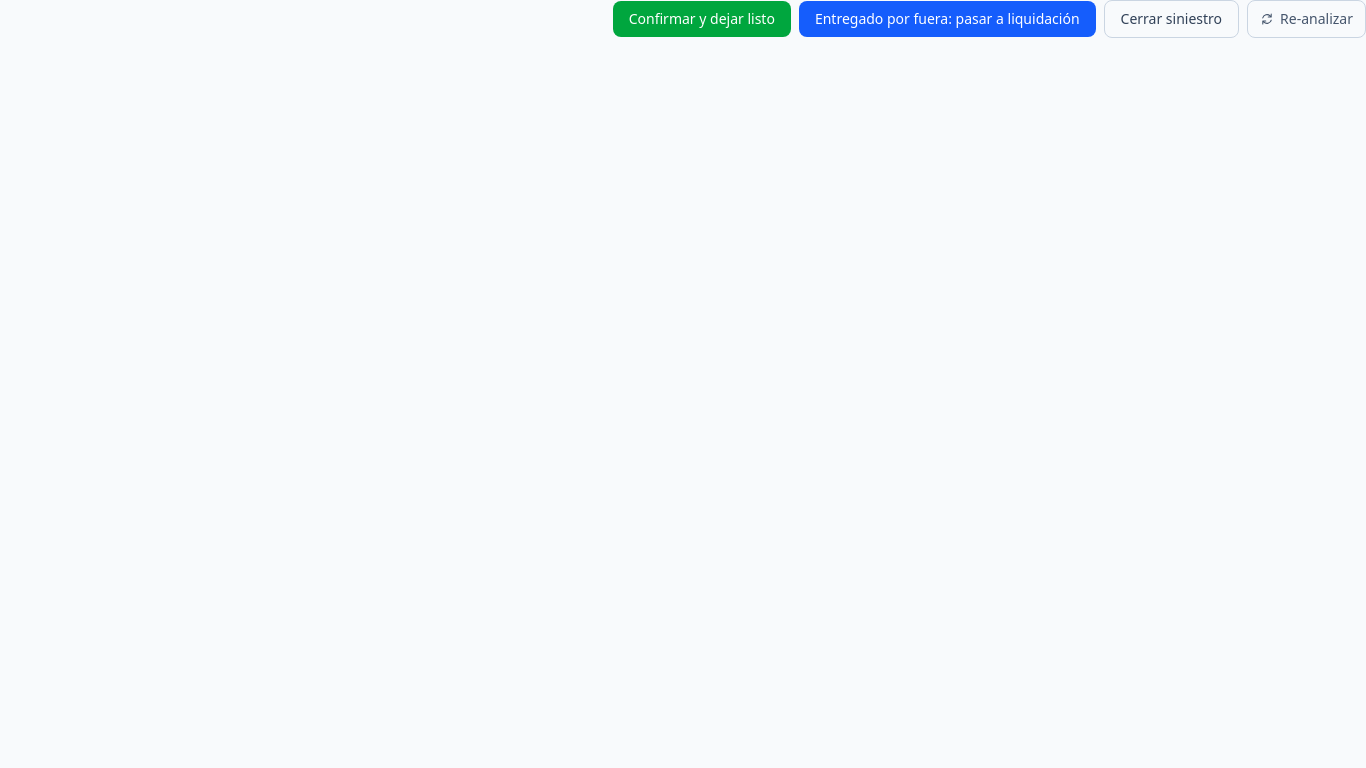
Dejarlo listo con faltantes › «Confirmar y dejar listo» con faltantes pide confirmar y manda sólo {confirmar_listo}
Step 1. Click the button with test id "action-confirmar-listo" → click(702, 19), box [613,1,791,37]
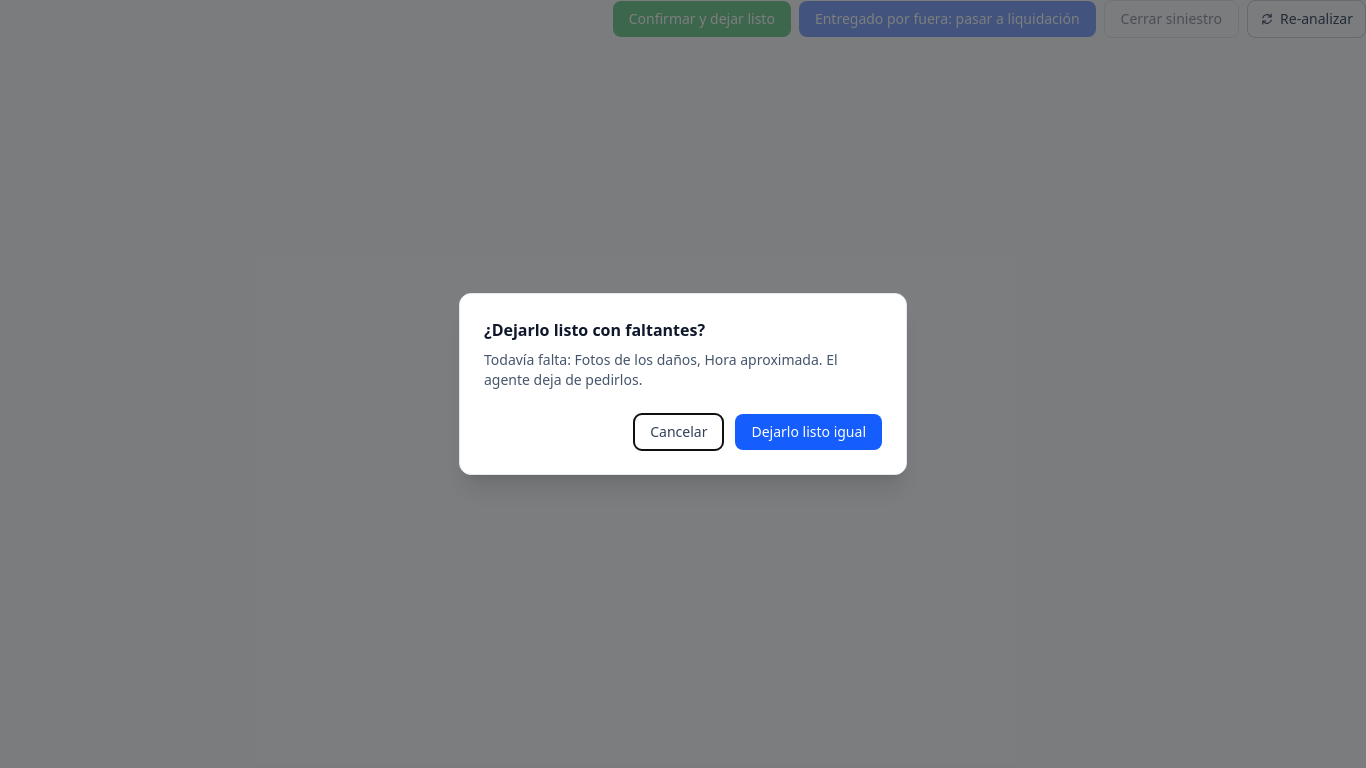
Step 2. Click the button with test id "listo-con-faltantes-confirm-button" → click(809, 432), box [736,414,882,450]
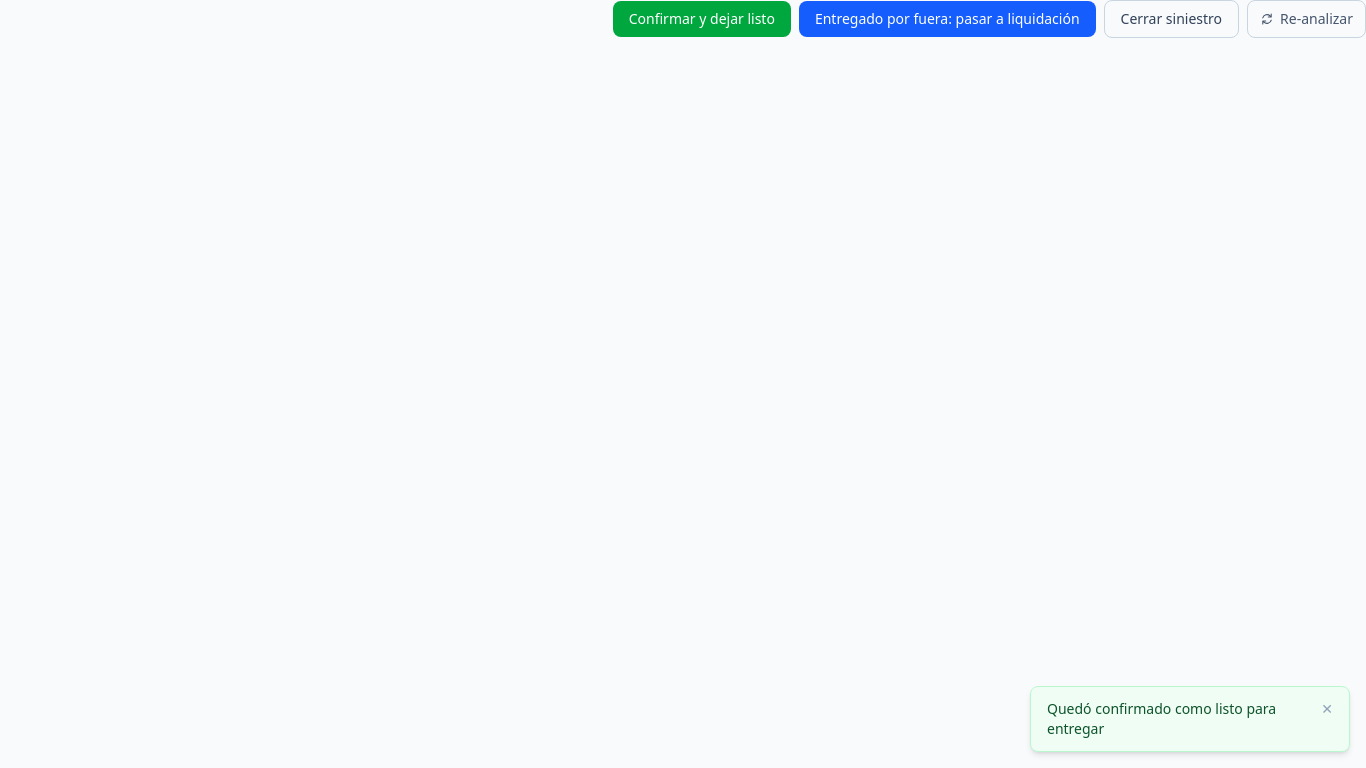
Expected: the text "Quedó confirmado como listo para entregar" is shown, [1047,699,1301,739]
